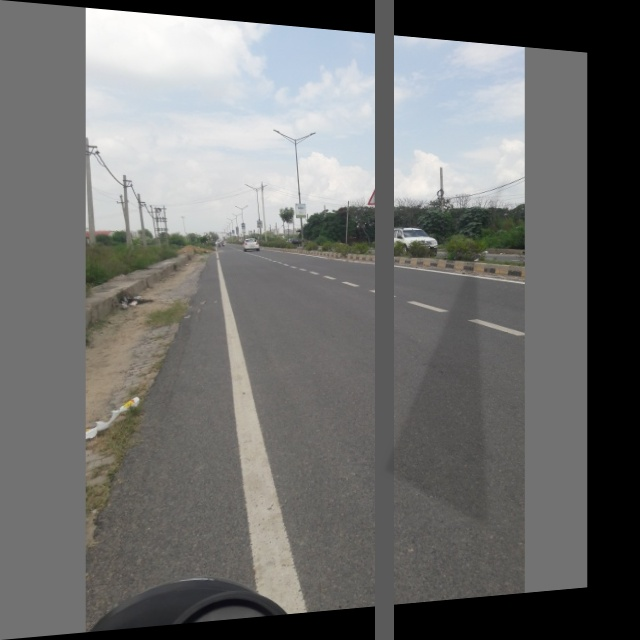Gap_in_Median: (363, 185, 387, 207)
